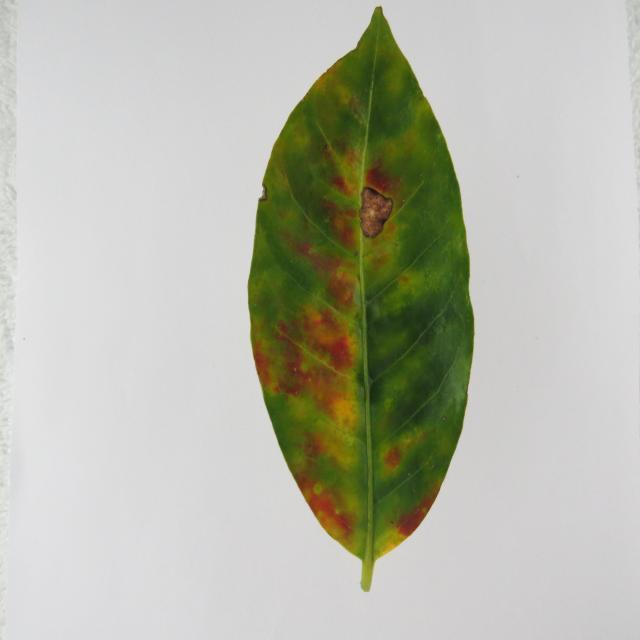DeficienciaNutricional-Fosforo: (249, 8, 474, 592)
